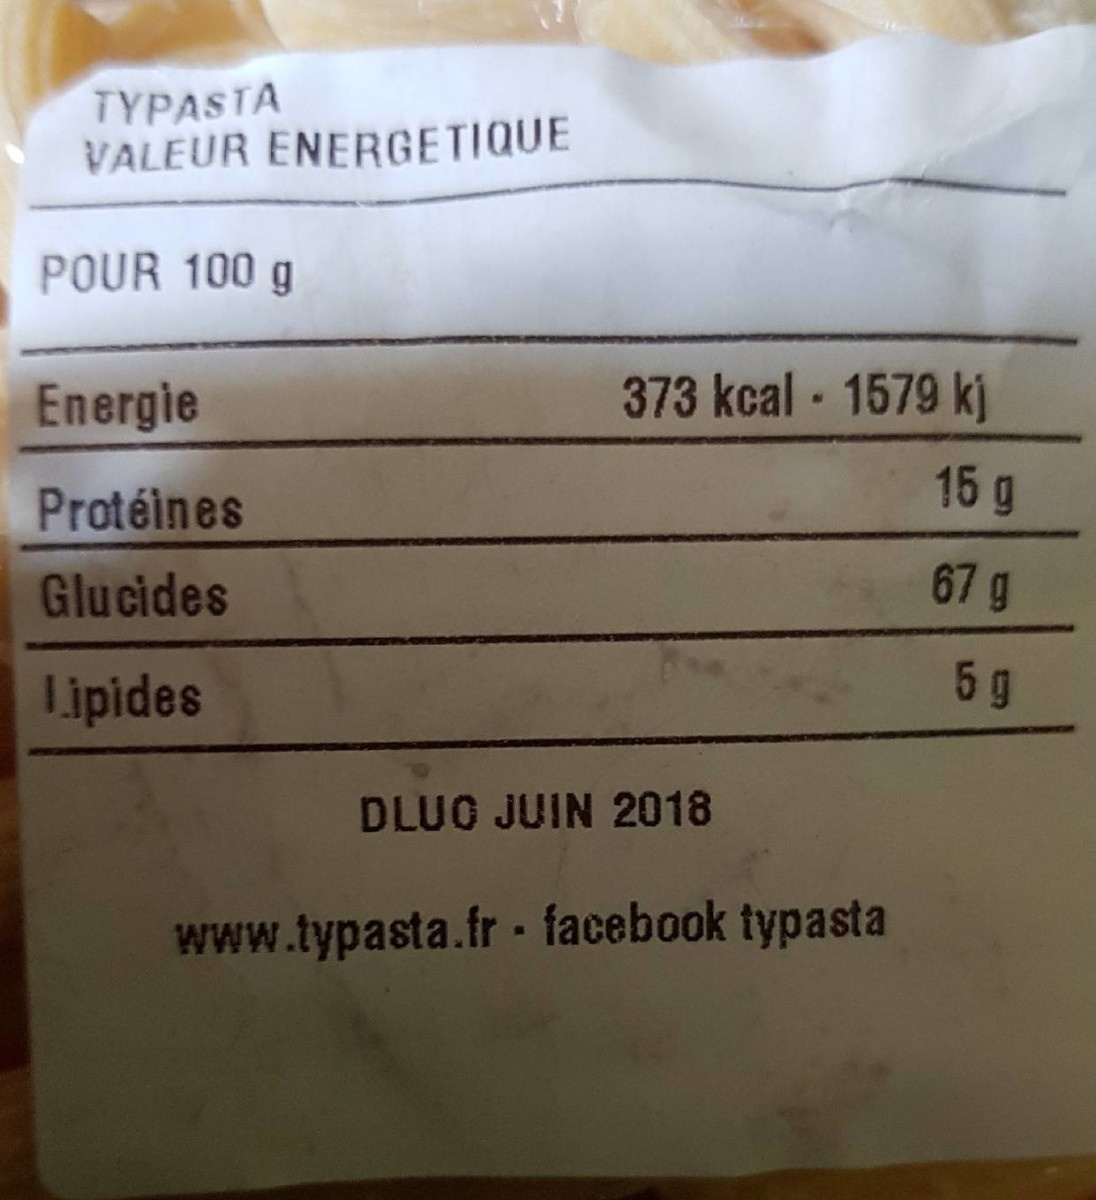column: (621, 339, 1020, 739), (34, 352, 250, 741)
table: (23, 197, 1069, 759)
